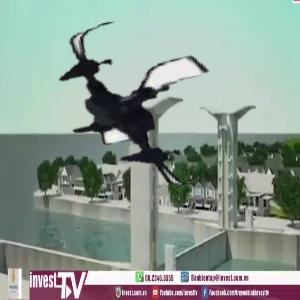drone: (46, 18, 225, 197)
